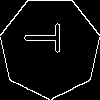T: (25, 22, 69, 53)
